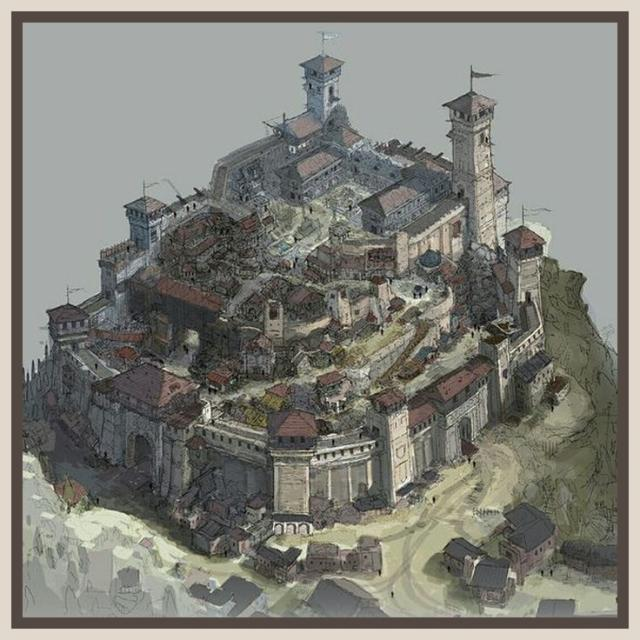castle: (29, 50, 541, 514)
